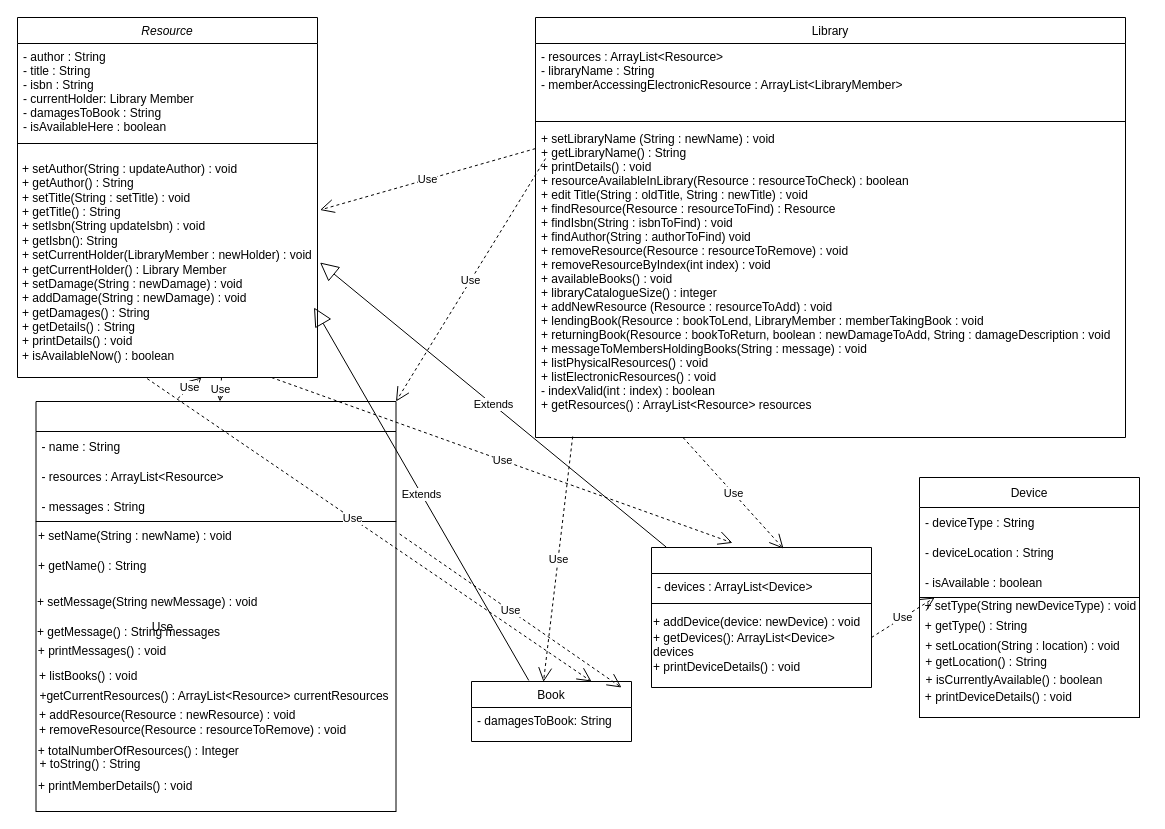
The diagram is 1165 pixels wide and 829 high, and some of its shapes have lost their labels. The shapes that lost their labels are listed below. From the top down, each one's box as (x1, y1, x2, y2) in pixels, then its label:
(35, 400, 396, 522): LibraryMember
(650, 546, 872, 688): ElectronicResource
